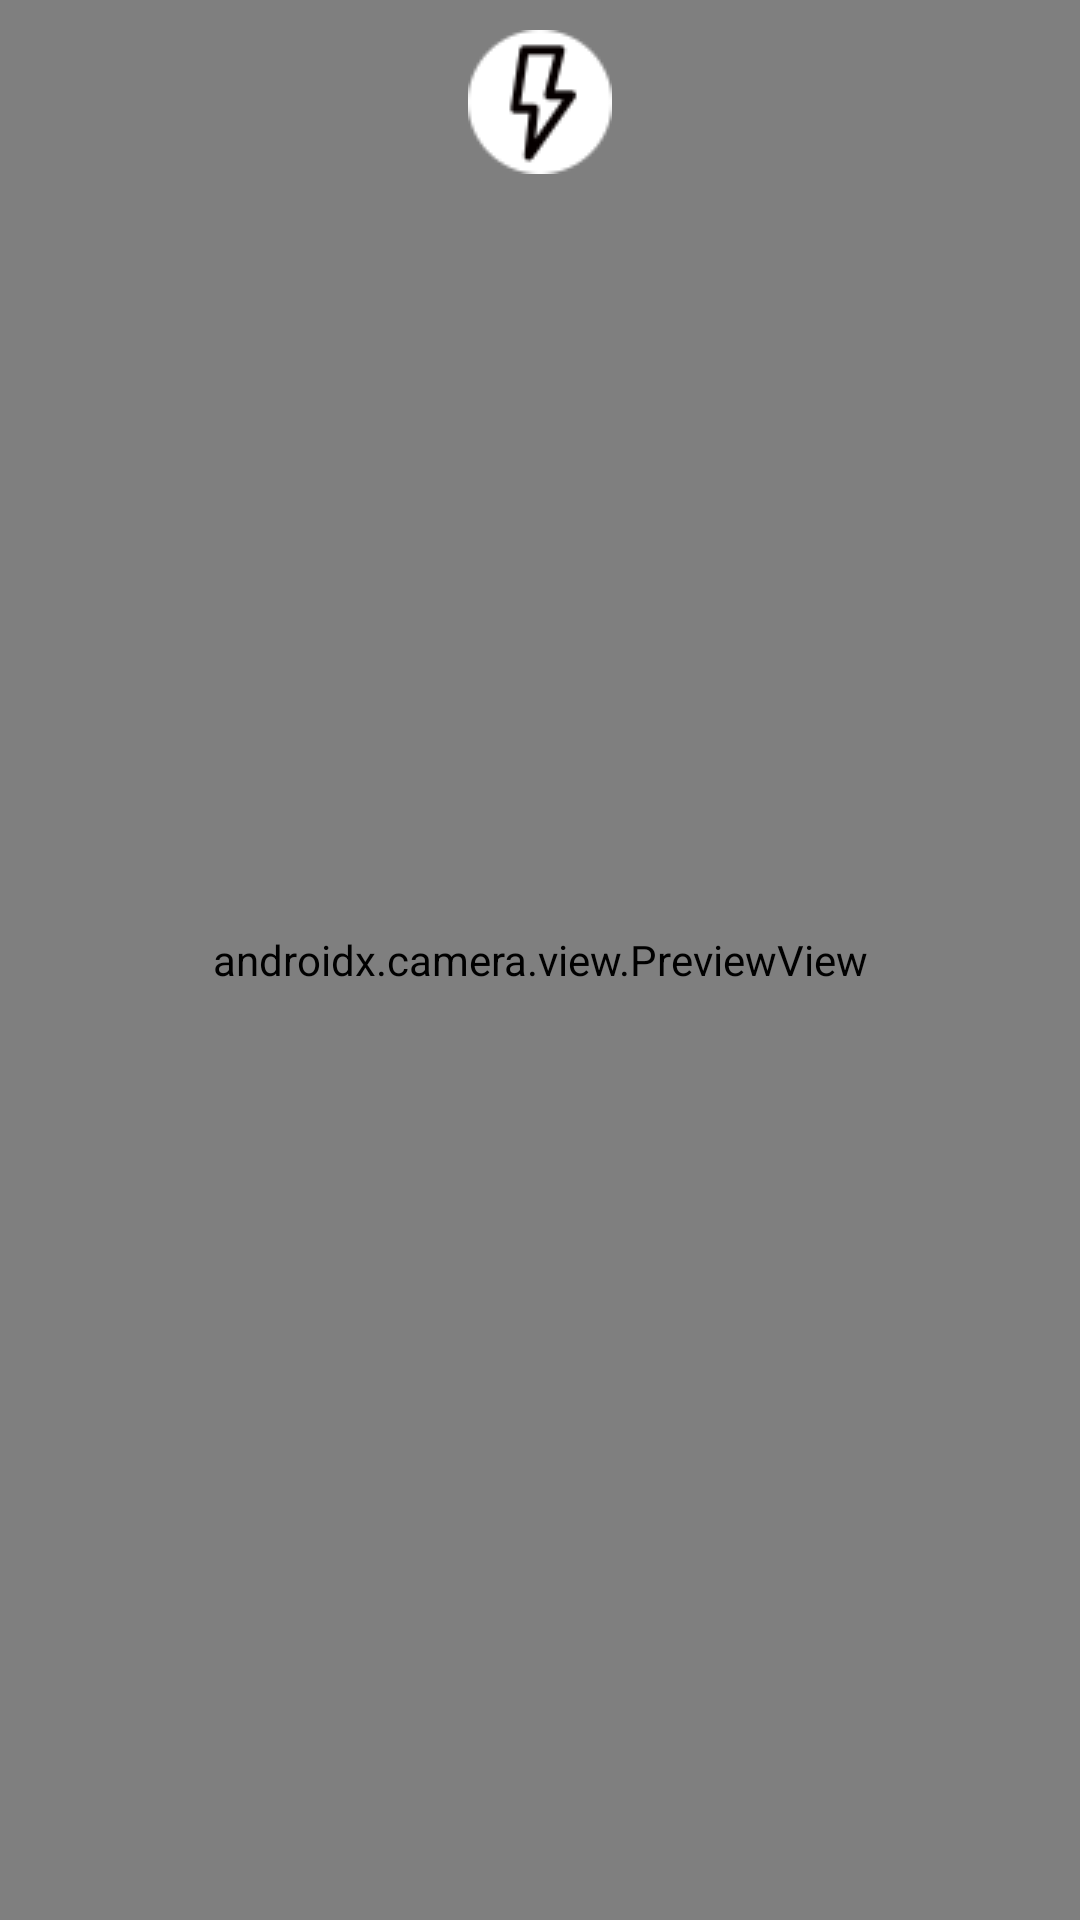

Icon bounding boxes for this 1080w x 1920h phone screenshot, format (x1, y1, x2, y2):
flash: (468, 30, 612, 174)
